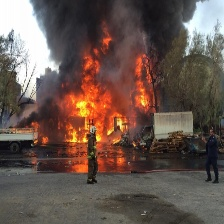fire: (68, 94, 125, 145), (134, 59, 158, 118), (27, 124, 48, 144)
smoke: (32, 1, 172, 91)
